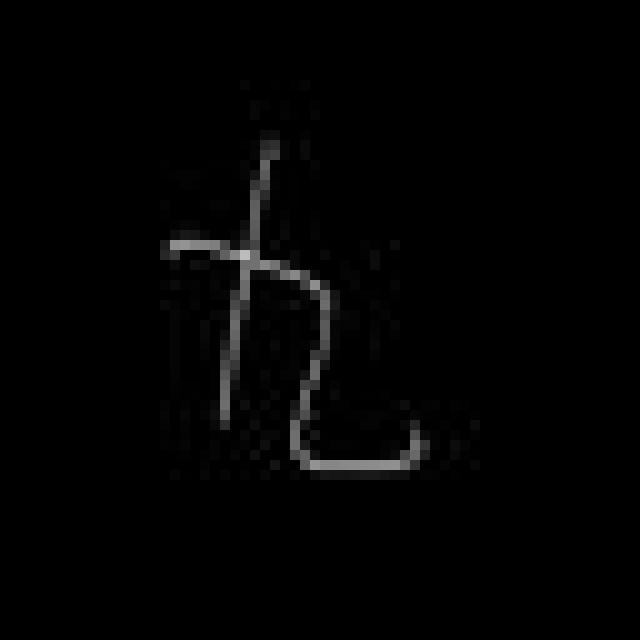9 -nine-: (157, 137, 433, 484)
